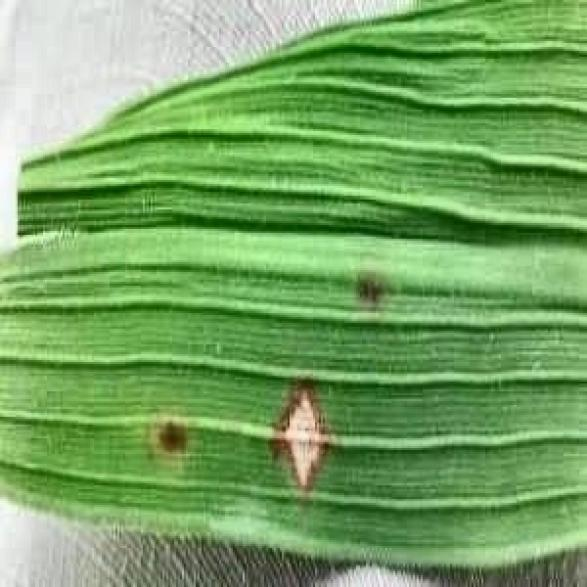Leaf_smut: (139, 270, 395, 491)
